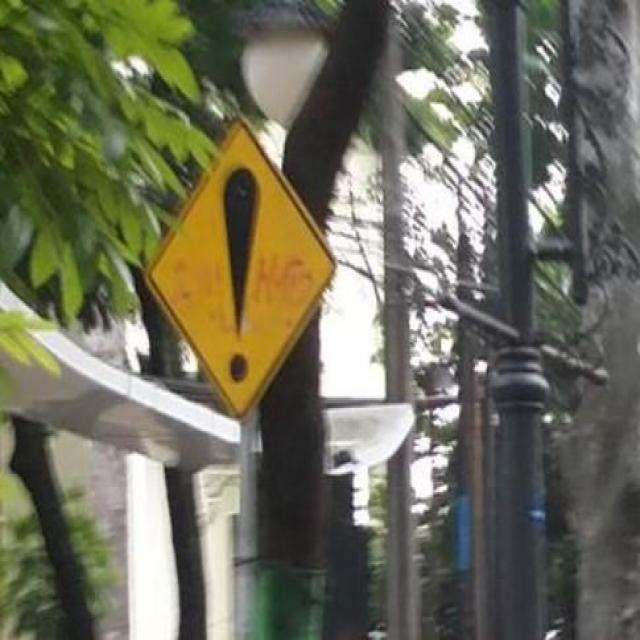traffic sign: (151, 120, 333, 411)
